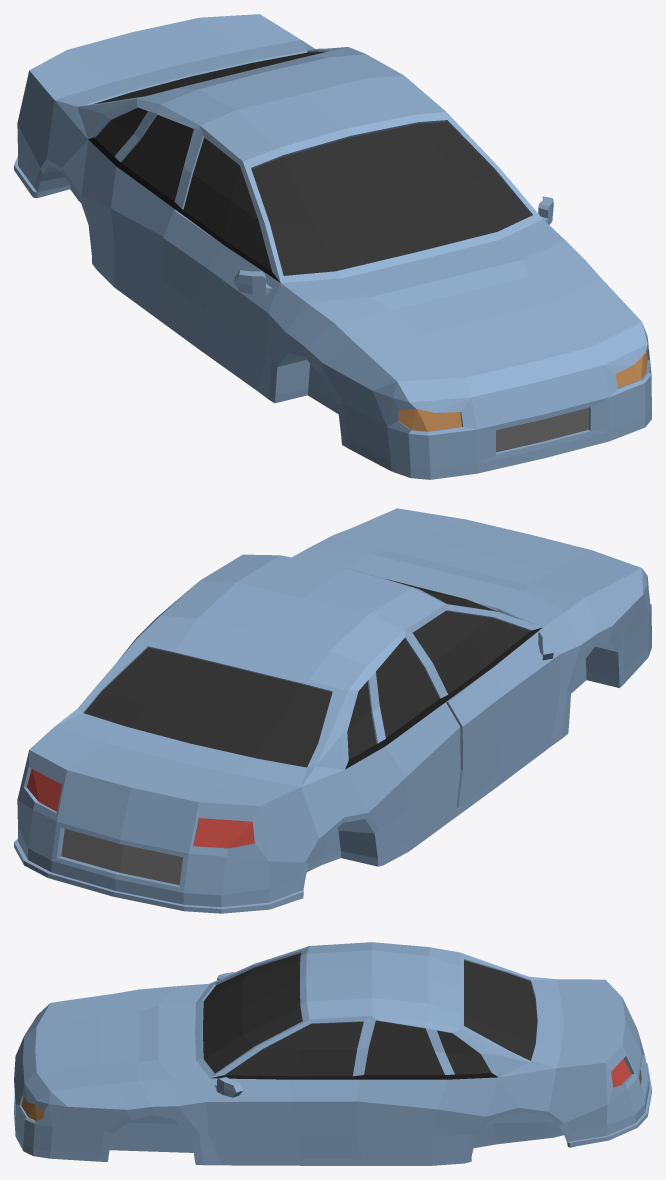
The model's file is normalcar1_cube.012_lev3.glb.
3 views of the same model, one above another, from view 1: azimuth 30°, elevation 25°; view 2: azimuth 150°, elevation 25°; view 3: azimuth 270°, elevation 25° (orthographic). The views are drawn at different scales.
Visible parts, largest first — view 1: normalcar1_cube.012_lev3; view 2: normalcar1_cube.012_lev3; view 3: normalcar1_cube.012_lev3.
Part boxes in pixels (x1=…): normalcar1_cube.012_lev3: x1=14, y1=14, x2=651, y2=479; normalcar1_cube.012_lev3: x1=14, y1=508, x2=651, y2=913; normalcar1_cube.012_lev3: x1=14, y1=942, x2=651, y2=1165.
Bounding box in the file's own units: 1.81 × 1.01 × 4.22.
